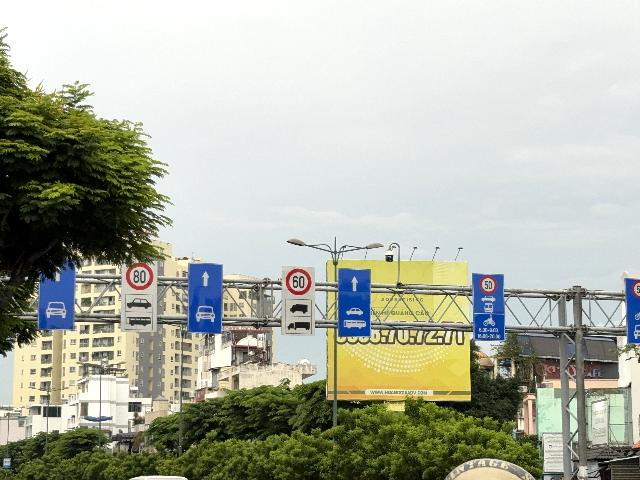toc-do-toi-da-cho-phep: (126, 262, 153, 290), (286, 268, 312, 295), (478, 275, 498, 294)
